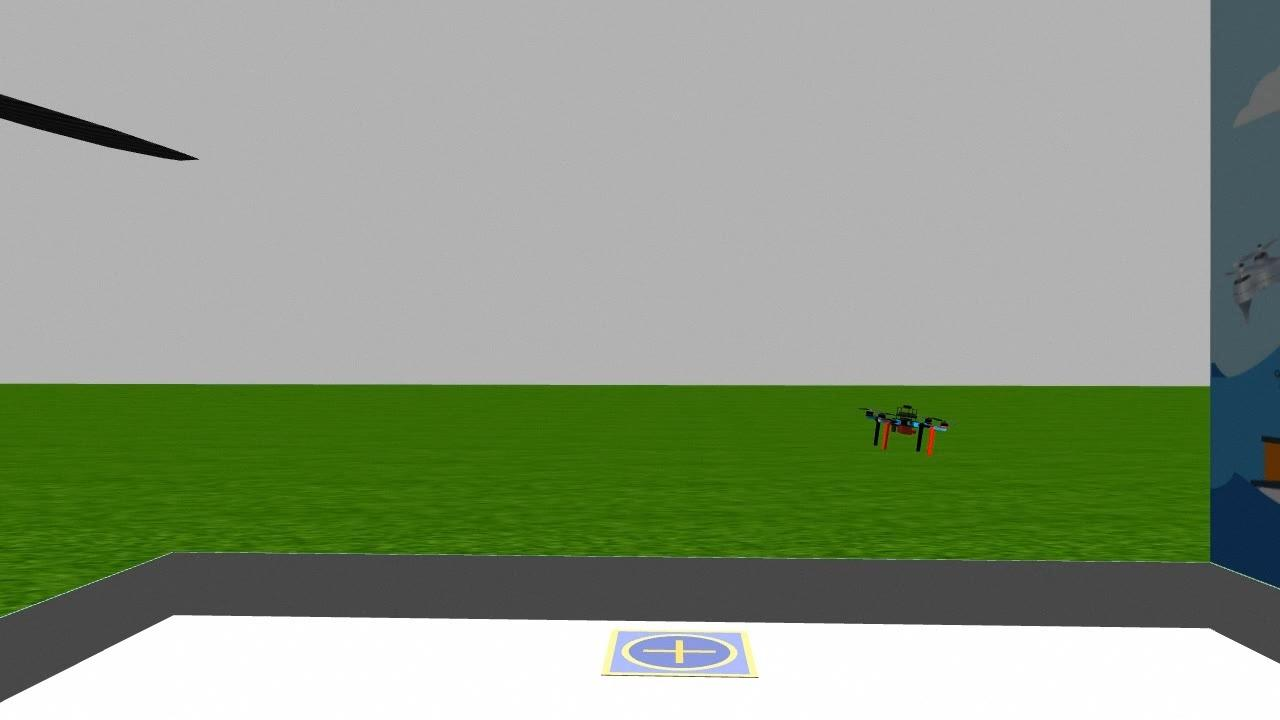UAV: (861, 399, 951, 459)
